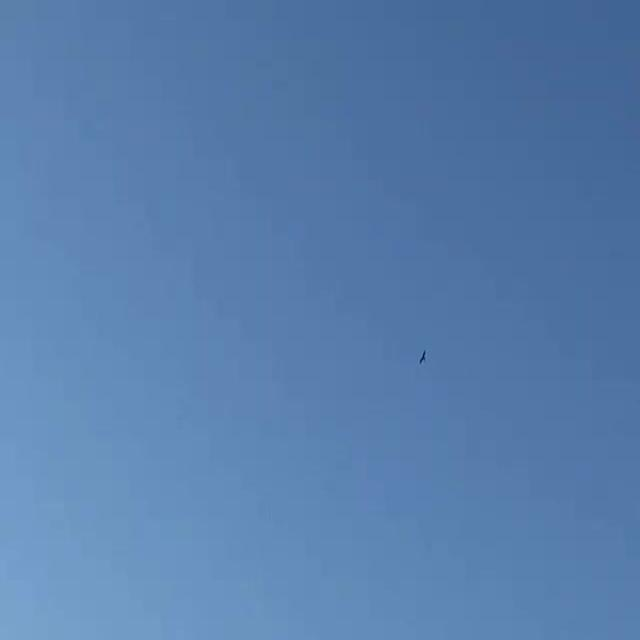bird: (415, 347, 429, 363)
